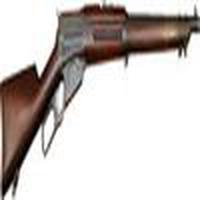gun: (4, 4, 199, 192)
